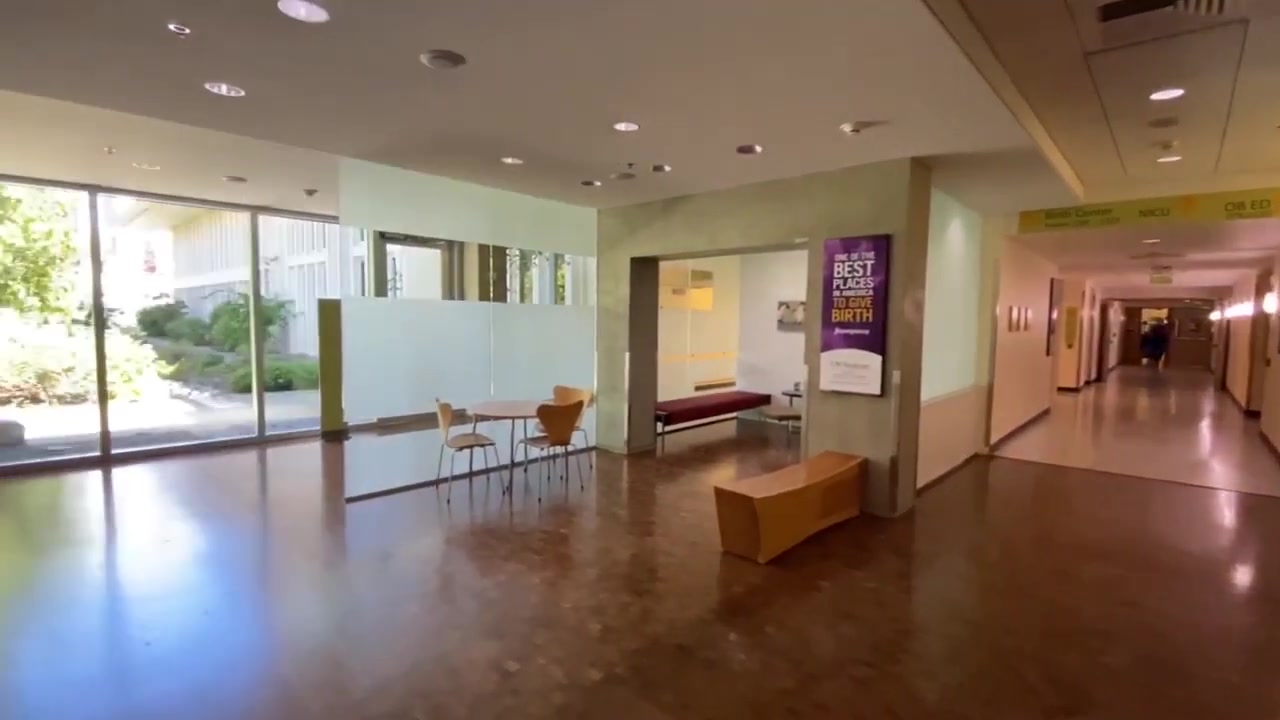chair: (716, 449, 869, 558), (434, 397, 506, 505), (512, 401, 585, 503), (530, 385, 599, 471), (760, 397, 804, 443)
sofa: (654, 389, 774, 452)
table: (467, 400, 557, 509)
